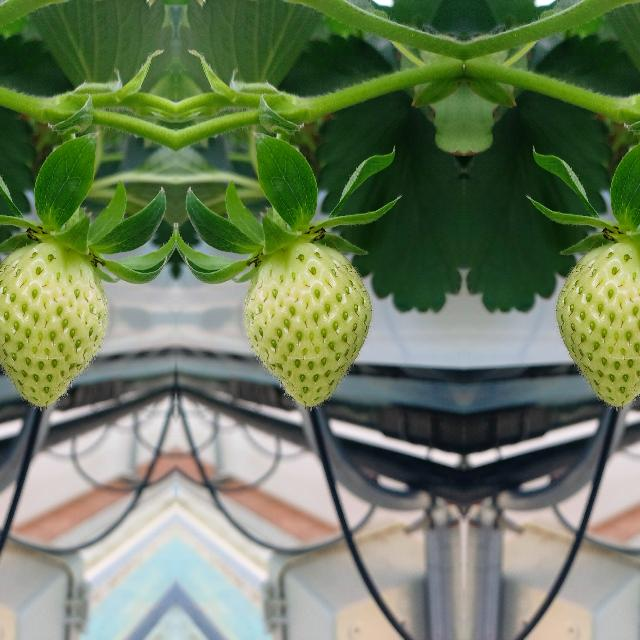Health_25: (240, 242, 374, 410), (0, 241, 110, 410), (552, 241, 640, 410)
